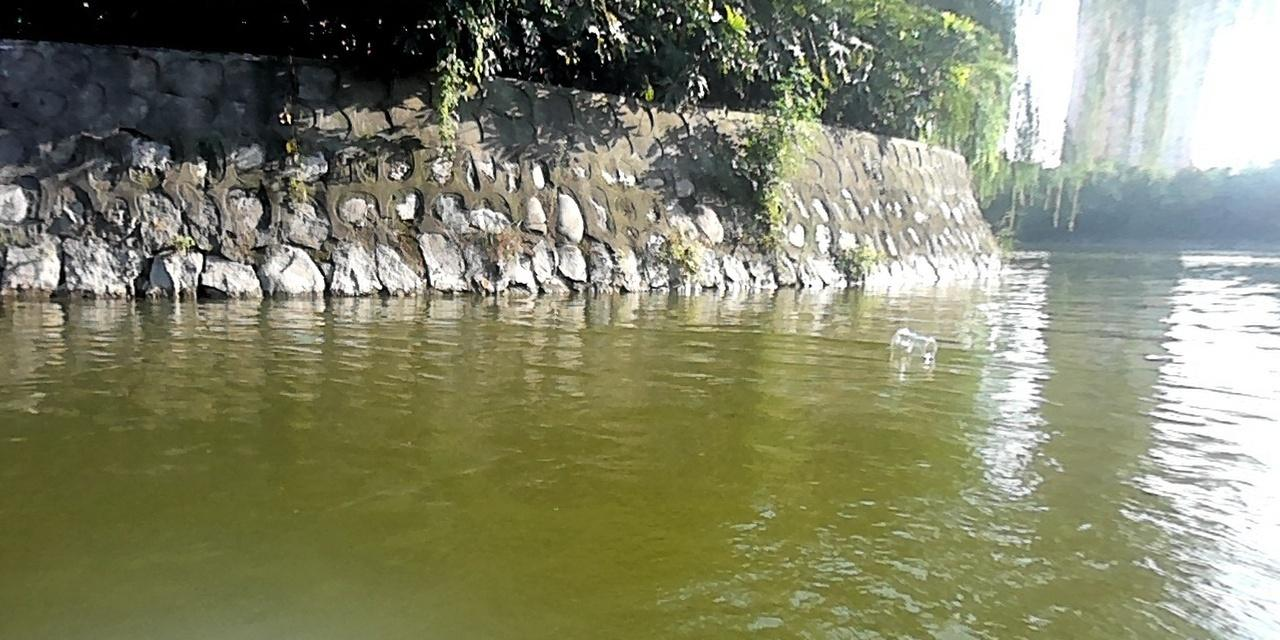bottle: (887, 326, 936, 358)
